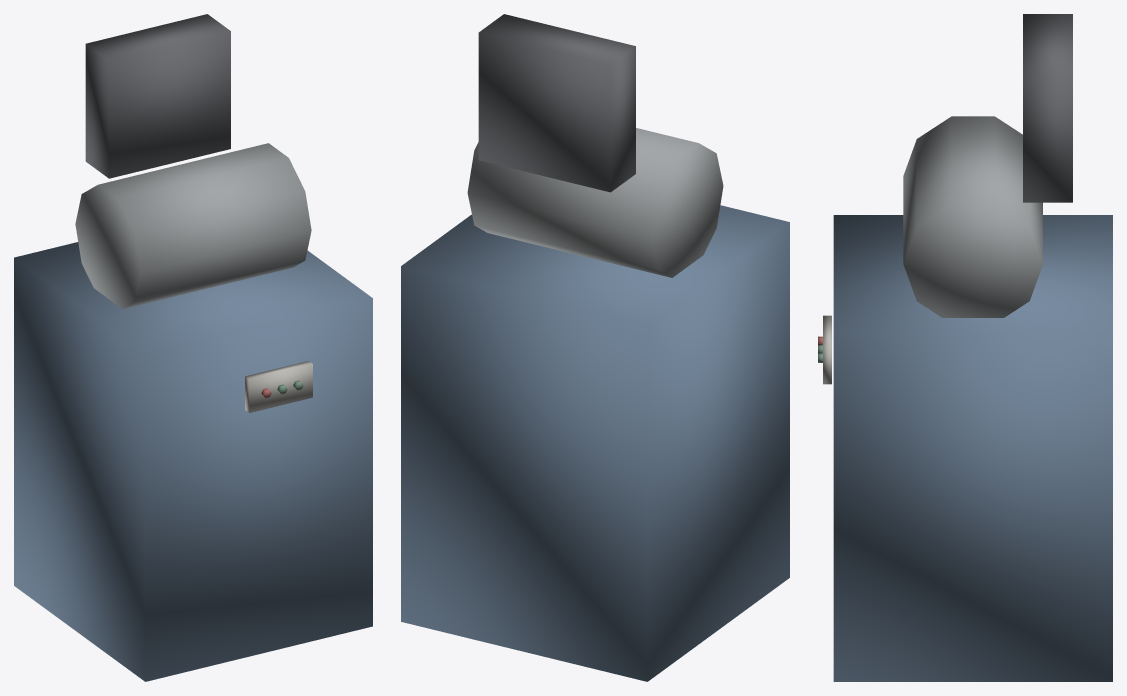
The model's file is tire_changer__reinforced.glb.
3 views of the same model, side by side, from view 1: azimuth 30°, elevation 25°; view 2: azimuth 150°, elevation 25°; view 3: azimuth 270°, elevation 25° (orthographic). The views are drawn at different scales.
Parts seen in each view (by area): view 1: world; view 2: world; view 3: world.
Boxes of the visible parts, box(x1,y1,x2,y2) form: world: box(14, 14, 372, 681); world: box(401, 14, 789, 681); world: box(818, 14, 1112, 681).
Bounding box in the file's own units: 0.5768 × 1.32 × 0.6087.
